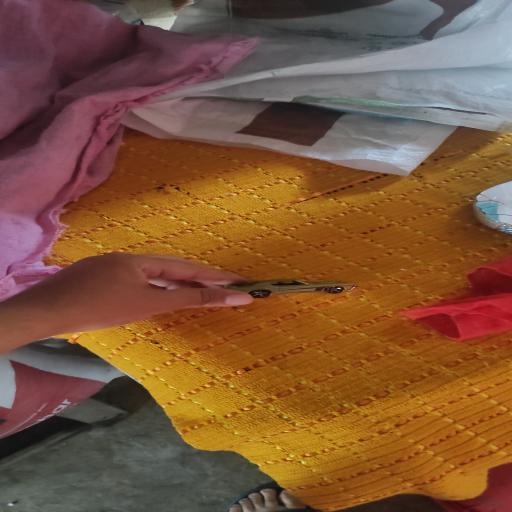Carrito: (224, 279, 356, 298)
